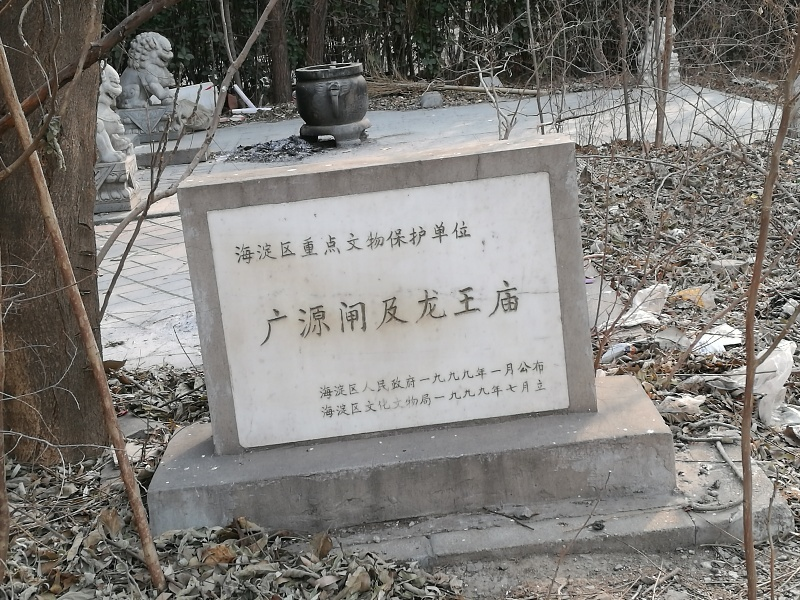text: (257, 276, 272, 351), (273, 276, 288, 351), (289, 276, 304, 351), (305, 276, 320, 351), (321, 276, 336, 351), (337, 276, 352, 351), (353, 276, 368, 351), (369, 276, 384, 351), (385, 276, 400, 351), (401, 276, 416, 351), (417, 276, 432, 351), (433, 276, 448, 351), (449, 276, 464, 351), (465, 276, 480, 351), (481, 276, 496, 351), (497, 276, 512, 351), (513, 276, 524, 351), (241, 219, 256, 268), (257, 219, 272, 268), (273, 219, 288, 268), (289, 219, 304, 268), (305, 219, 320, 268), (321, 219, 336, 268), (337, 219, 352, 268), (353, 219, 368, 268), (369, 219, 384, 268), (385, 219, 400, 268), (401, 219, 416, 268), (417, 219, 432, 268), (433, 219, 448, 268), (449, 219, 464, 268), (321, 359, 336, 402), (337, 359, 352, 402), (353, 359, 368, 402), (369, 359, 384, 402), (385, 359, 400, 402), (401, 359, 416, 402), (417, 359, 432, 402), (433, 359, 448, 402), (449, 359, 464, 402), (465, 359, 480, 402), (481, 359, 496, 402), (497, 359, 512, 402), (513, 359, 528, 402), (529, 359, 544, 402), (321, 379, 336, 420), (337, 379, 352, 420), (353, 379, 368, 420), (369, 379, 384, 420), (385, 379, 400, 420), (401, 379, 416, 420), (417, 379, 432, 420), (433, 379, 448, 420), (449, 379, 464, 420), (465, 379, 480, 420), (481, 379, 496, 420), (497, 379, 512, 420), (513, 379, 528, 420), (529, 379, 544, 420), (465, 219, 473, 268), (233, 219, 240, 268), (253, 276, 256, 351), (545, 379, 548, 420), (319, 359, 320, 402), (545, 359, 546, 402)
